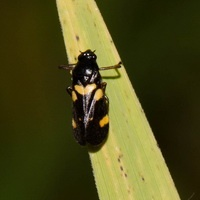insect: (59, 49, 121, 151)
